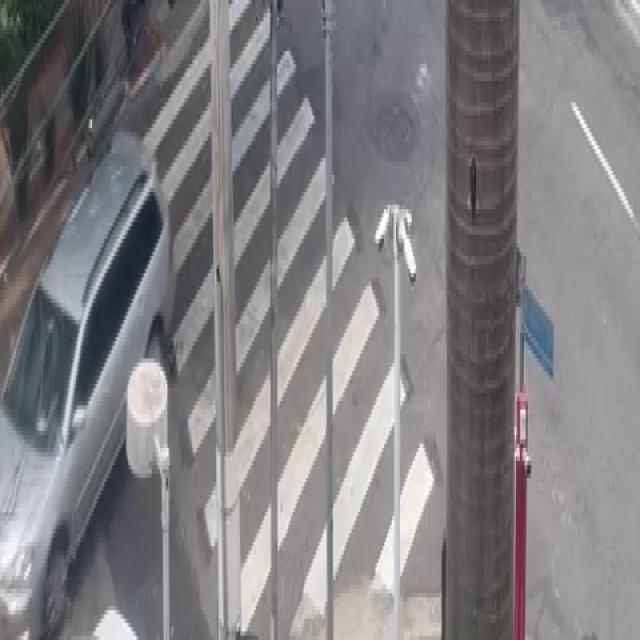car: (5, 152, 178, 639)
